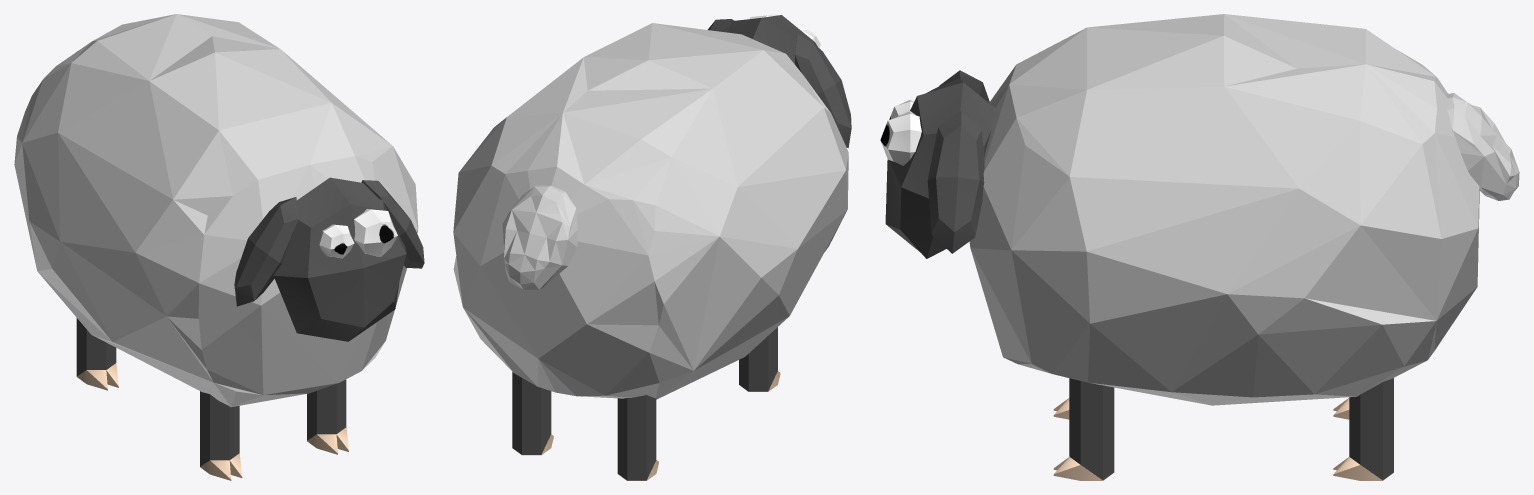
Rendered from sheep.fbx.
3 views of the same model, side by side, from view 1: azimuth 30°, elevation 25°; view 2: azimuth 150°, elevation 25°; view 3: azimuth 270°, elevation 25° (orthographic). The views are drawn at different scales.
Visible parts, largest first — view 1: sheep-colorable, sheep-model; view 2: sheep-colorable, sheep-model; view 3: sheep-colorable, sheep-model.
Part boxes in pixels (x1,y1,x2,y2): sheep-colorable: (14, 14, 418, 407); sheep-model: (76, 177, 424, 480); sheep-colorable: (453, 23, 848, 399); sheep-model: (512, 14, 851, 480); sheep-colorable: (969, 14, 1519, 405); sheep-model: (880, 70, 1393, 480).
Bounding box in the file's own units: 0.8605 × 0.9641 × 1.37.
4 materials, 1 textured.
